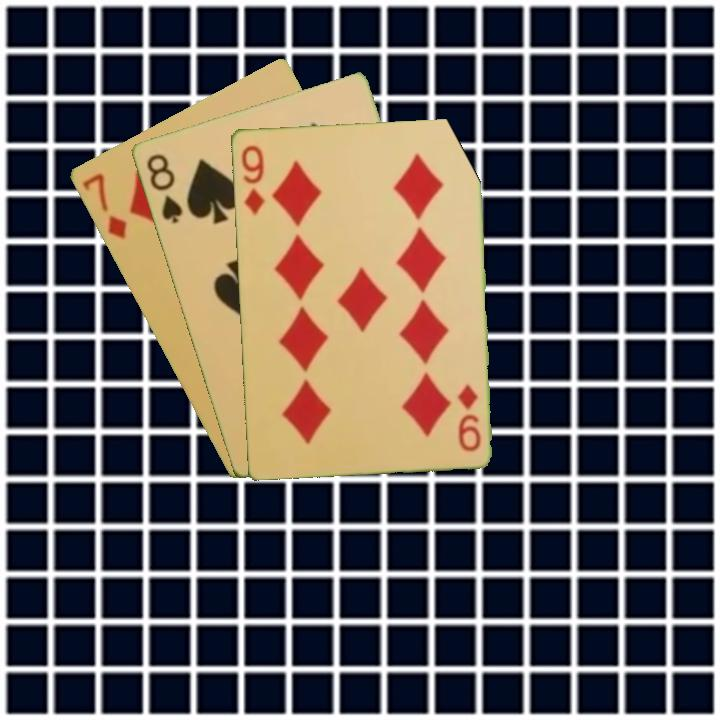7d: (78, 169, 130, 243)
8s: (142, 150, 185, 226)
9d: (237, 141, 267, 218), (454, 380, 483, 454)
